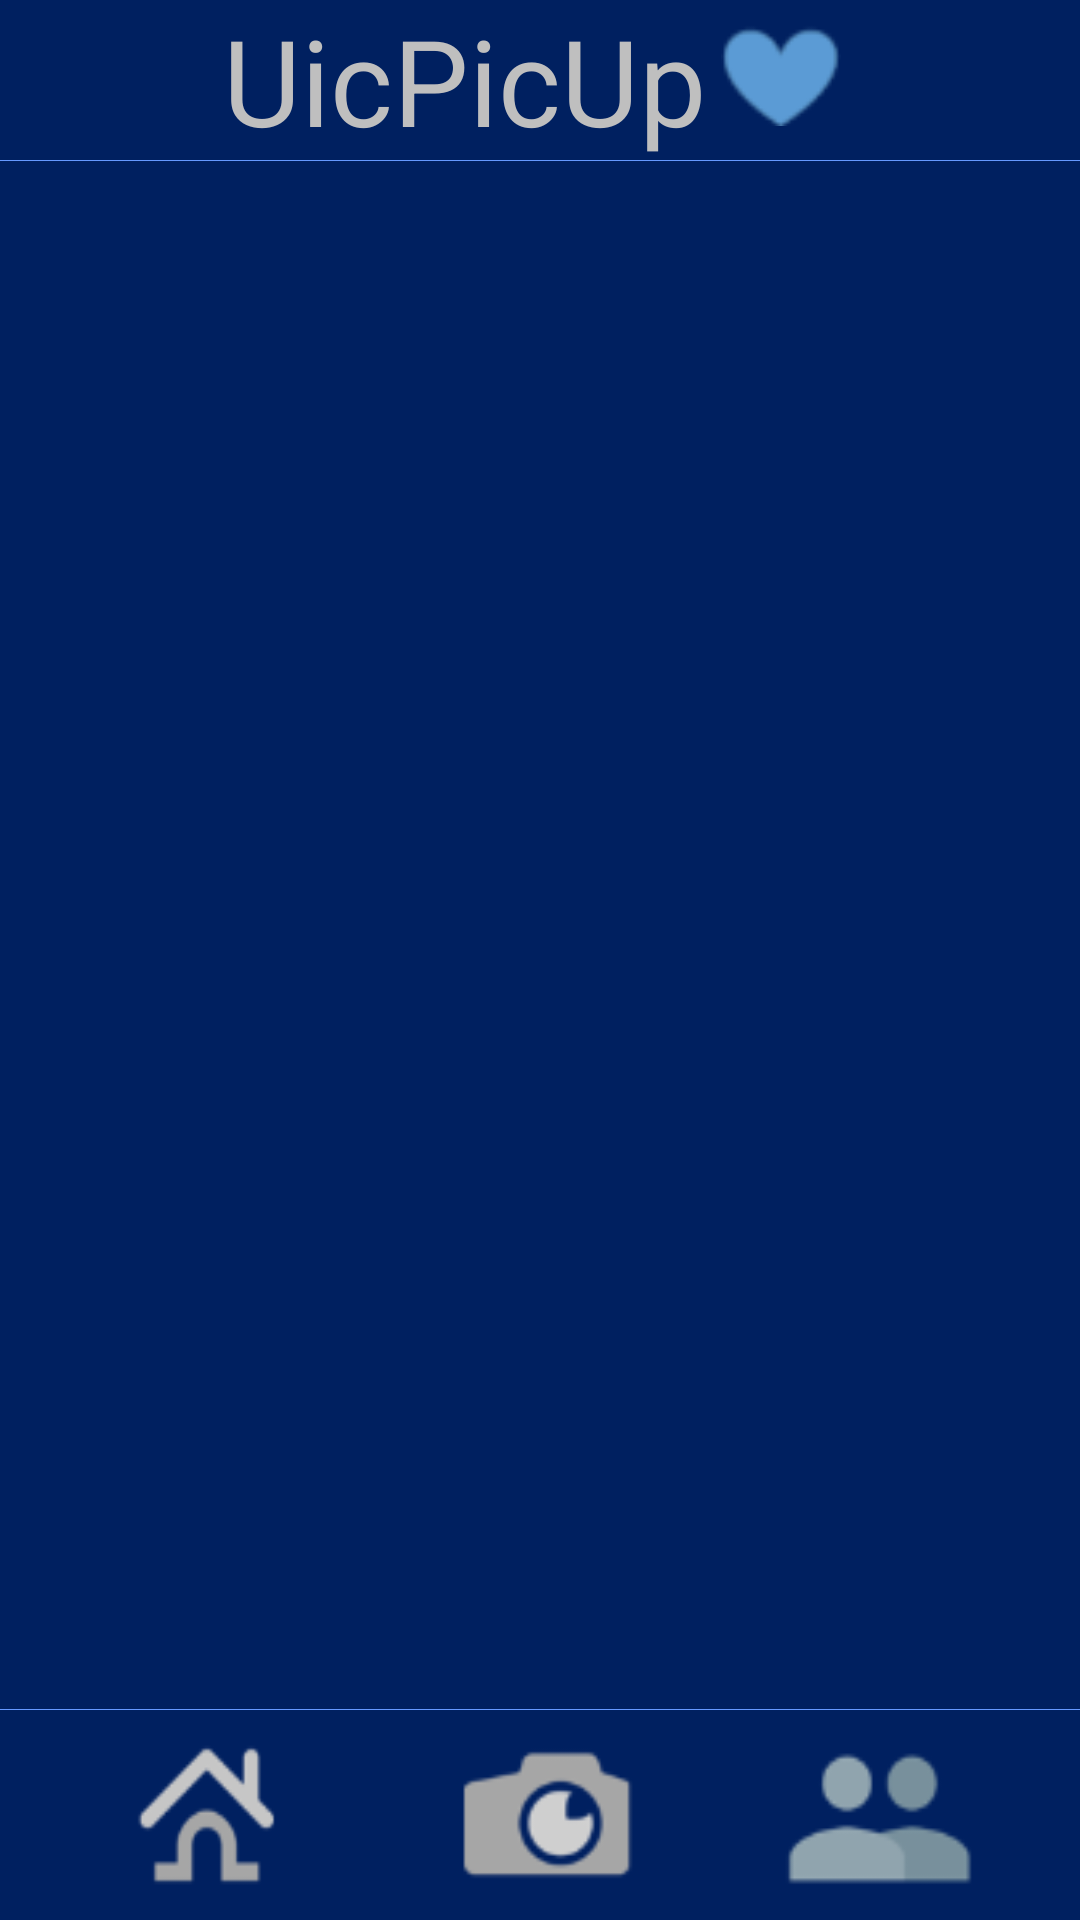

Where to tap for icons on this 1080 x 1920 app screen, as point (x, y):
camera: point (547, 1814)
home: point (206, 1815)
love: point (781, 77)
